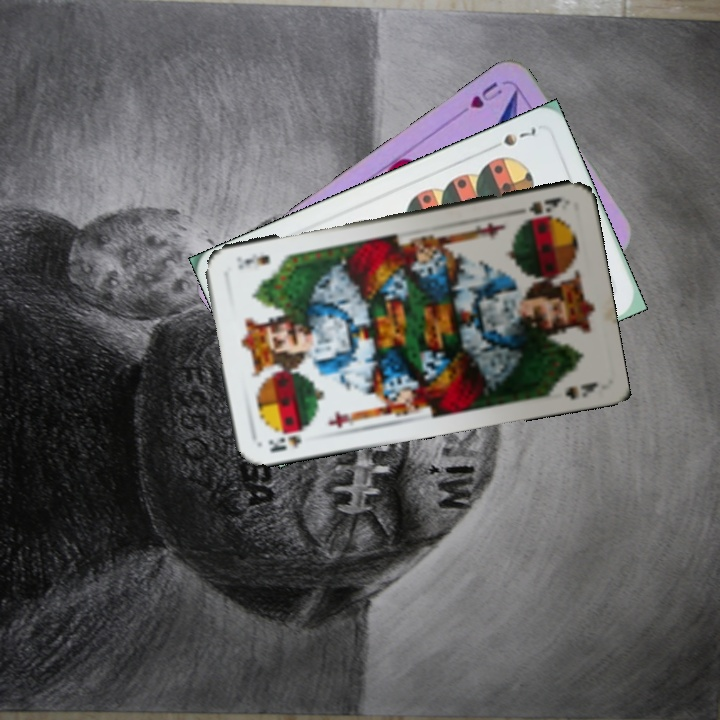HU: (465, 77, 505, 112)
S7: (499, 124, 539, 149)
SK: (511, 193, 565, 223), (264, 431, 304, 455)
